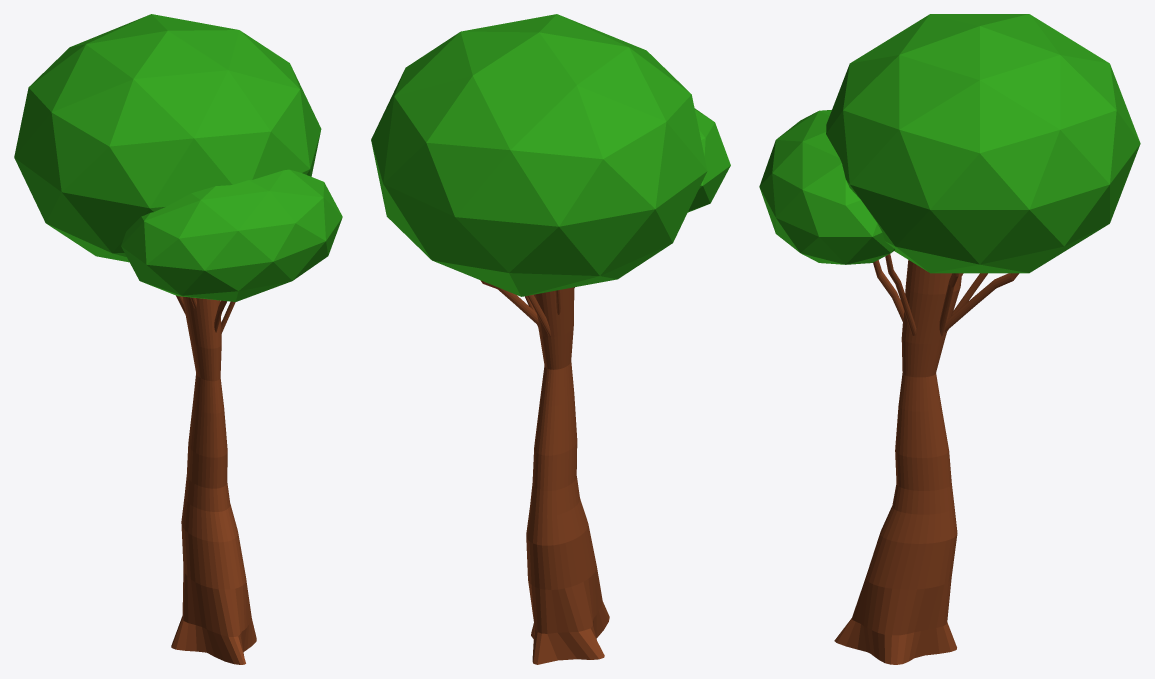
The model's file is Baum_4.fbx.
The picture shows the model from 3 angles, left to right: view 1: azimuth 30°, elevation 25°; view 2: azimuth 150°, elevation 25°; view 3: azimuth 270°, elevation 25°; orthographic projection. The views are drawn at different scales.
Visible parts, largest first — view 1: Icosphere.003, Cylinder.003; view 2: Icosphere.003, Cylinder.003; view 3: Icosphere.003, Cylinder.003.
Boxes of the visible parts, x1,y1,x2,y2 form: Icosphere.003: [14, 14, 342, 301]; Cylinder.003: [171, 295, 256, 664]; Icosphere.003: [371, 14, 730, 296]; Cylinder.003: [480, 280, 609, 664]; Icosphere.003: [759, 14, 1140, 273]; Cylinder.003: [834, 254, 1019, 664].
Bounding box in the file's own units: 253 × 548 × 308.
